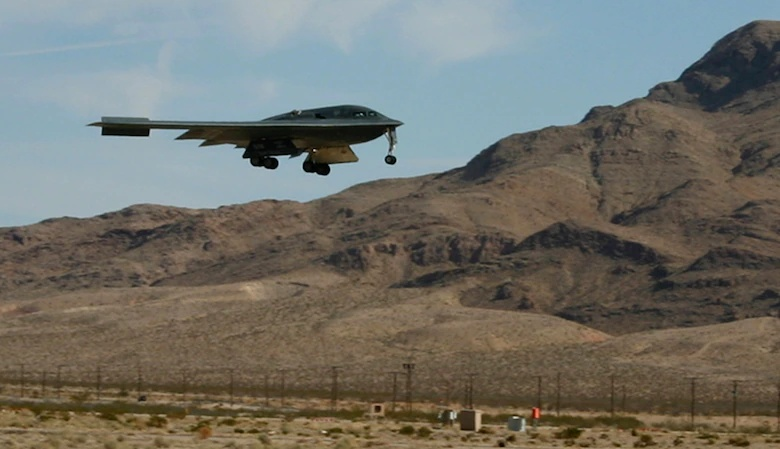B2: (85, 104, 405, 176)
